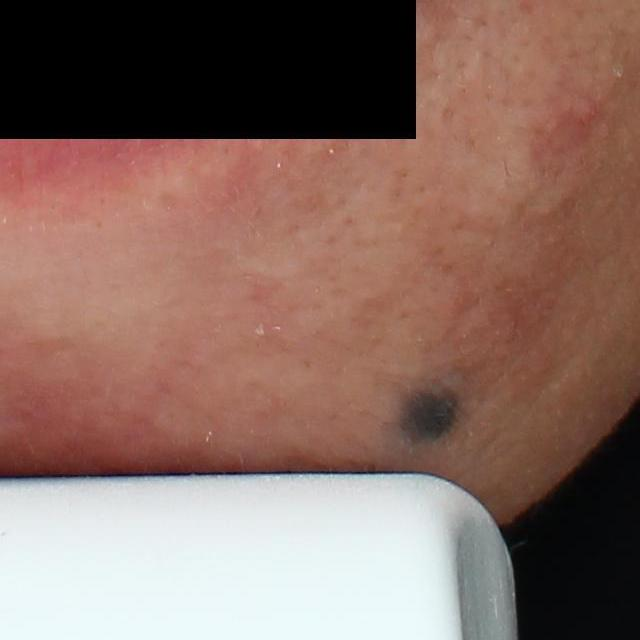nevus: (394, 375, 463, 447)
papule: (574, 97, 598, 127)
